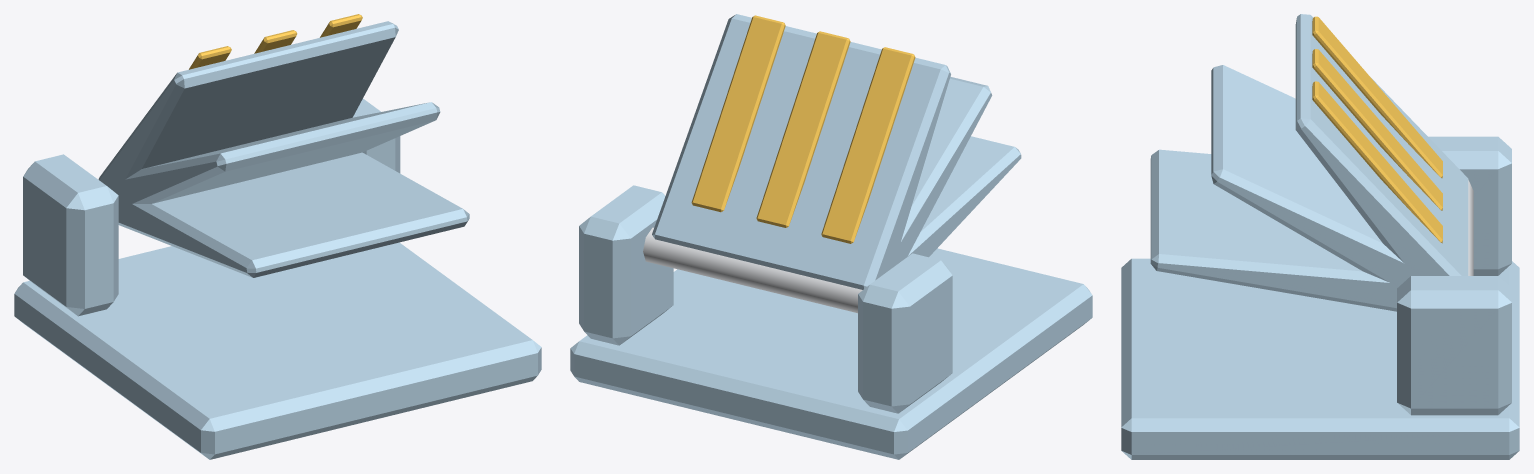
File: R4X_RampDeployer_LOD1.glb
The picture shows the model from 3 angles, left to right: view 1: azimuth 30°, elevation 25°; view 2: azimuth 150°, elevation 25°; view 3: azimuth 270°, elevation 25°; orthographic projection. The views are drawn at different scales.
Visible parts, largest first — view 1: R4X_RampDeployer_LOD1; view 2: R4X_RampDeployer_LOD1; view 3: R4X_RampDeployer_LOD1.
Boxes of the visible parts, left/top/right/bottom form: R4X_RampDeployer_LOD1: left=14, top=14, right=541, bottom=459; R4X_RampDeployer_LOD1: left=570, top=14, right=1092, bottom=459; R4X_RampDeployer_LOD1: left=1121, top=14, right=1519, bottom=459.
Bounding box in the file's own units: 0.52 × 0.4665 × 0.52.
